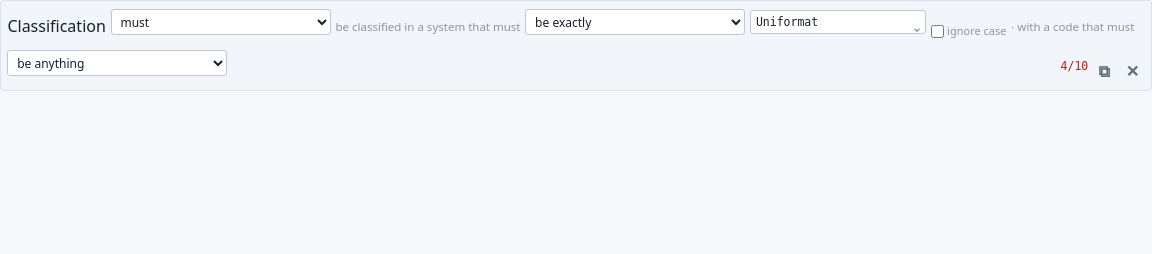
Test: ClassificationRow › reports an empty enumeration, which XSD would read as accepting anything
Select "be one of" in the dropdown named "Code operator": [117, 63] box [7, 50, 227, 76]
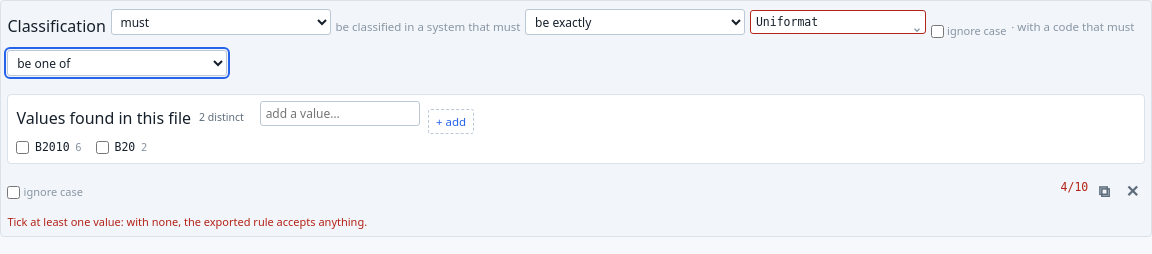
Check: the text "Tick at least one value" is shown, box [7, 214, 367, 229]
